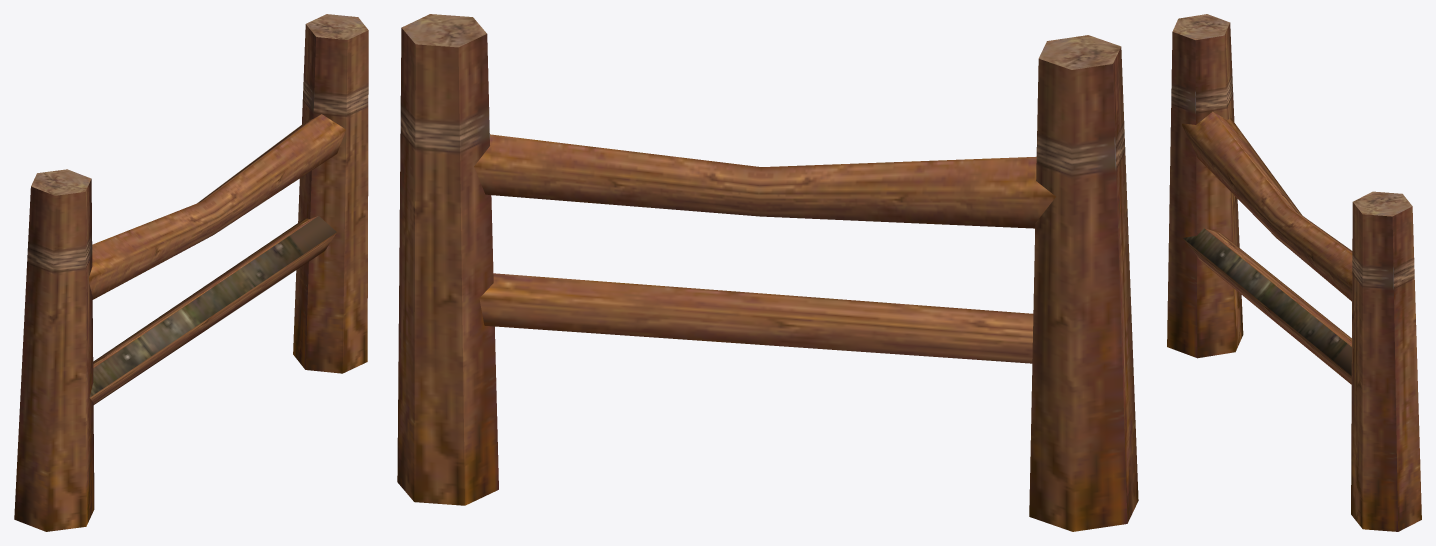
File: fb_chun_langan01_55_46_5741out.fbx
3 views of the same model, side by side, from view 1: azimuth 30°, elevation 25°; view 2: azimuth 150°, elevation 25°; view 3: azimuth 270°, elevation 25° (orthographic). The views are drawn at different scales.
Parts seen in each view (by area): view 1: fb_chun_langan01; view 2: fb_chun_langan01; view 3: fb_chun_langan01.
Part boxes in pixels (box(x1,y1,x2,y2)): fb_chun_langan01: box(14, 14, 368, 531); fb_chun_langan01: box(397, 14, 1138, 531); fb_chun_langan01: box(1167, 14, 1421, 531).
Bounding box in the file's own units: 1.07 × 0.7872 × 0.5665.
